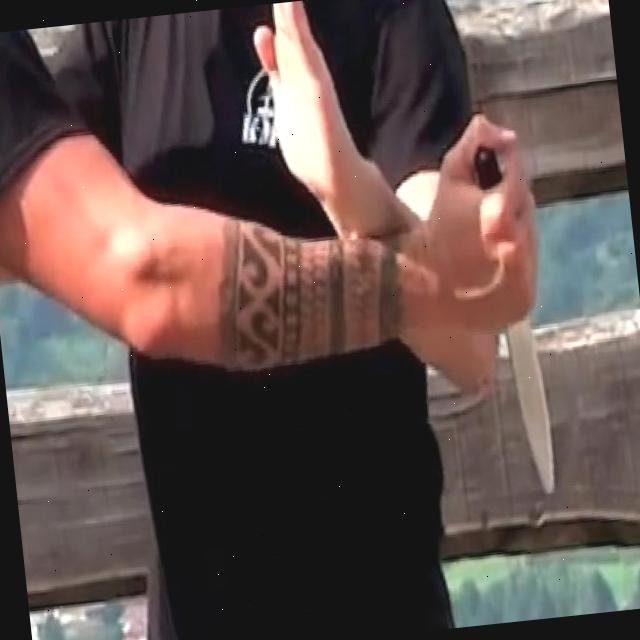suspicion: (0, 93, 571, 555), (505, 324, 561, 502)
